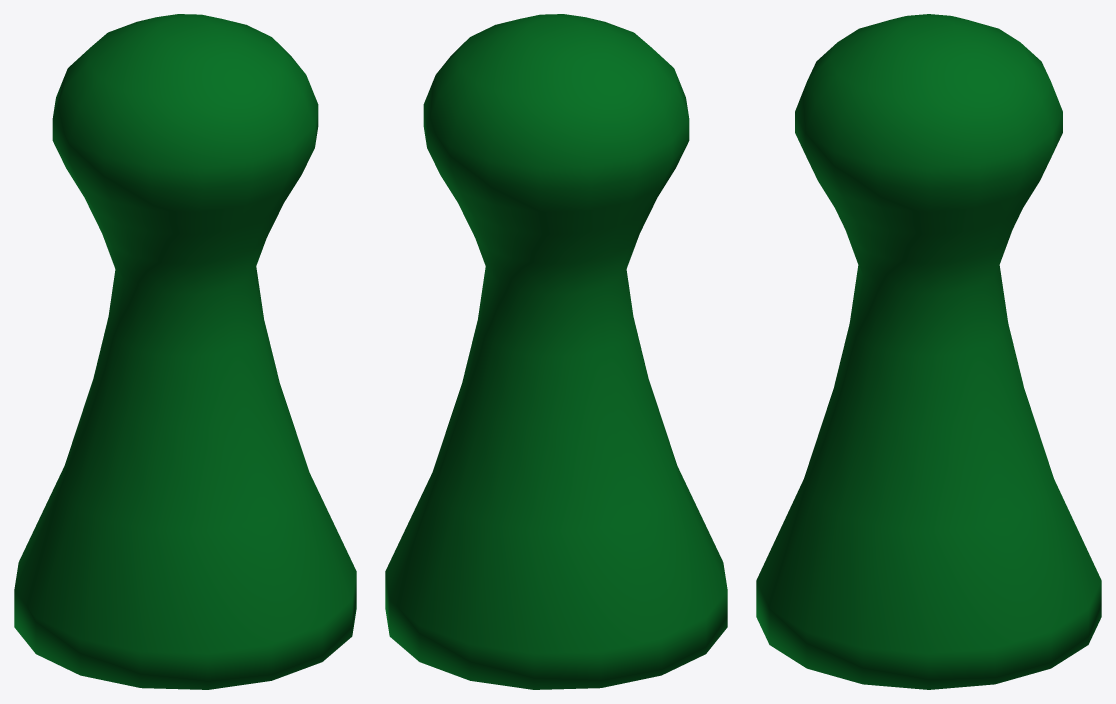
The model's file is green.glb.
The picture shows the model from 3 angles, left to right: view 1: azimuth 30°, elevation 25°; view 2: azimuth 150°, elevation 25°; view 3: azimuth 270°, elevation 25°; orthographic projection.
Parts seen in each view (by area): view 1: GreenGameFigure2; view 2: GreenGameFigure2; view 3: GreenGameFigure2.
Part boxes in pixels (left/top/right/bottom): GreenGameFigure2: left=14, top=14, right=356, bottom=689; GreenGameFigure2: left=385, top=14, right=727, bottom=689; GreenGameFigure2: left=756, top=14, right=1101, bottom=689.
Bounding box in the file's own units: 2.27 × 4.25 × 2.27.
